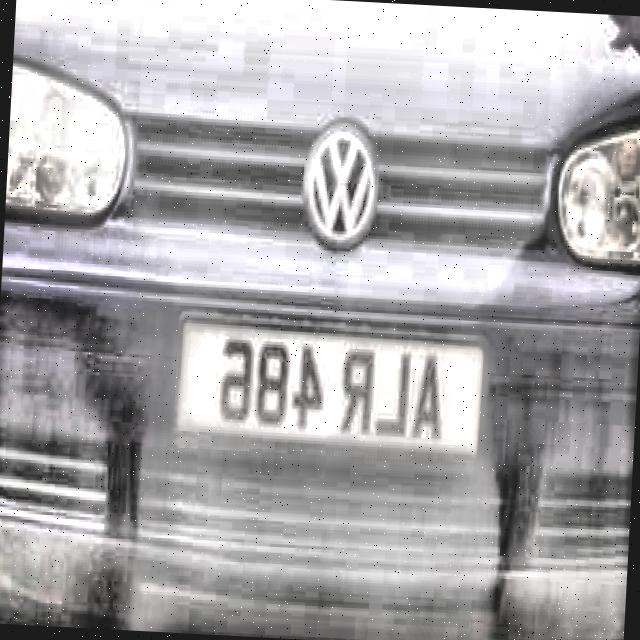license_plate: (175, 323, 484, 448)
